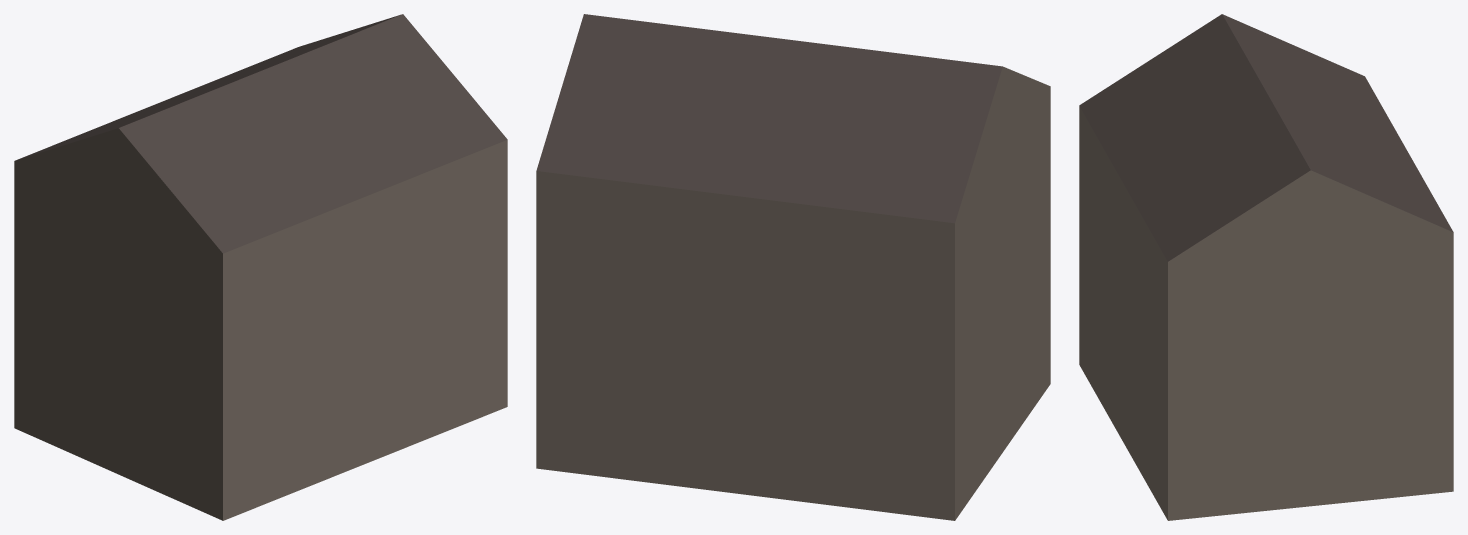
The picture shows the model from 3 angles, left to right: view 1: azimuth 30°, elevation 25°; view 2: azimuth 150°, elevation 25°; view 3: azimuth 270°, elevation 25°; orthographic projection. The views are drawn at different scales.
Visible parts, largest first — view 1: HP-w776801049; view 2: HP-w776801049; view 3: HP-w776801049.
Part boxes in pixels (x1,y1,x2,y2): HP-w776801049: (14,14,507,520); HP-w776801049: (536,14,1050,520); HP-w776801049: (1079,14,1453,520).
Bounding box in the file's own units: 9.21 × 7.78 × 7.86.
